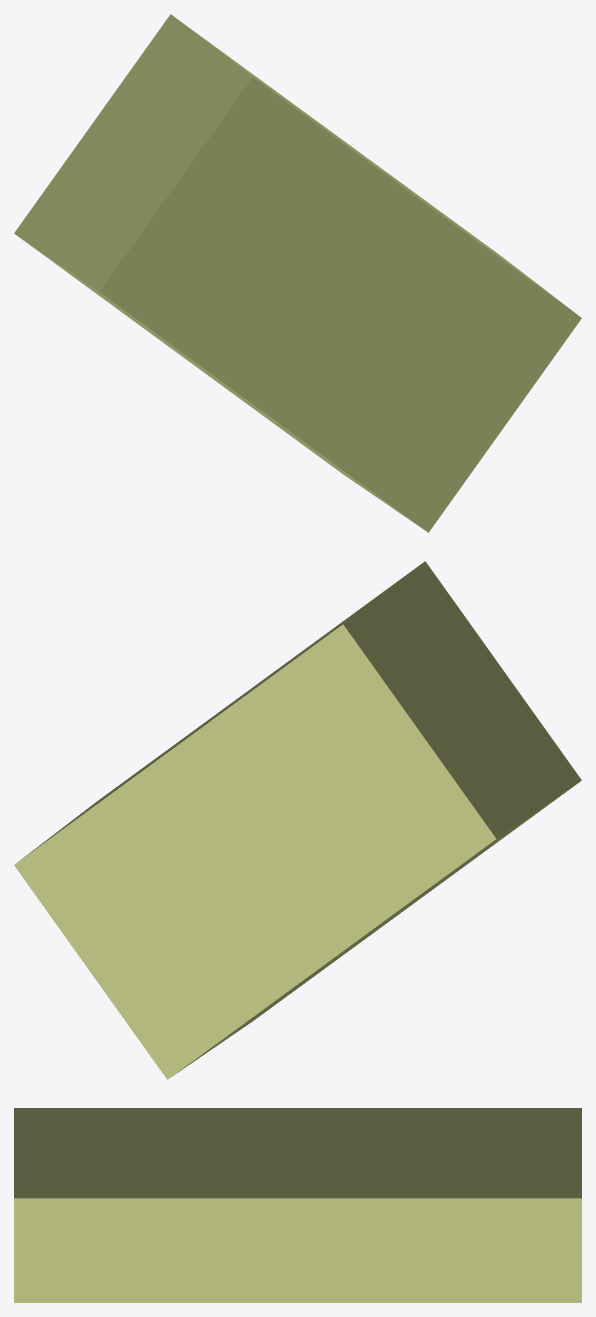
3 renders of one model, top to bottom at view 1: azimuth 30°, elevation 25°; view 2: azimuth 150°, elevation 25°; view 3: azimuth 270°, elevation 25°, orthographic. The views are drawn at different scales.
Visible parts, largest first — view 1: 0_2_3_2_2_0_2_1_3_1_3_3_3; view 2: 0_2_3_2_2_0_2_1_3_1_3_3_3; view 3: 0_2_3_2_2_0_2_1_3_1_3_3_3.
Boxes of the visible parts, box(x1,y1,x2,y2) form: 0_2_3_2_2_0_2_1_3_1_3_3_3: box(14, 14, 581, 532); 0_2_3_2_2_0_2_1_3_1_3_3_3: box(14, 561, 581, 1079); 0_2_3_2_2_0_2_1_3_1_3_3_3: box(14, 1108, 581, 1302).
Size of the model in its own units: 2.51 by 2.62 by 6.
